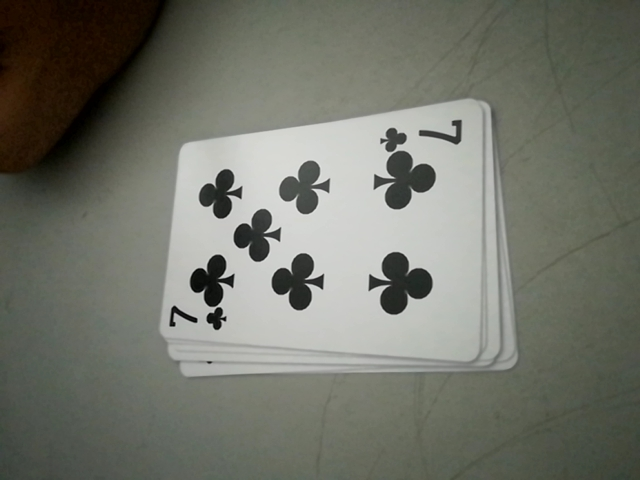mh 7: (379, 115, 471, 153), (164, 303, 230, 336)
